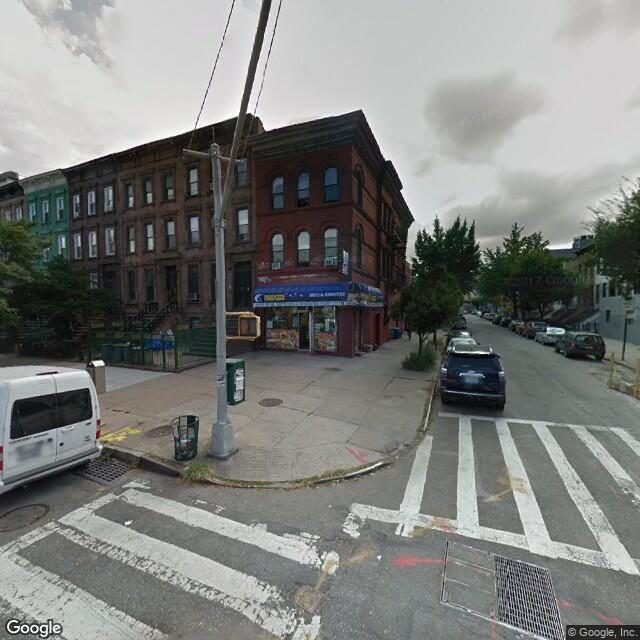litter: (123, 518, 132, 525), (379, 554, 384, 559)
